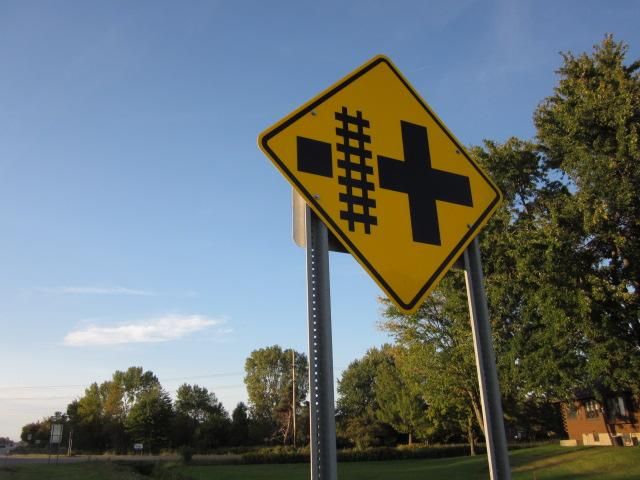warning: (259, 56, 507, 315)
